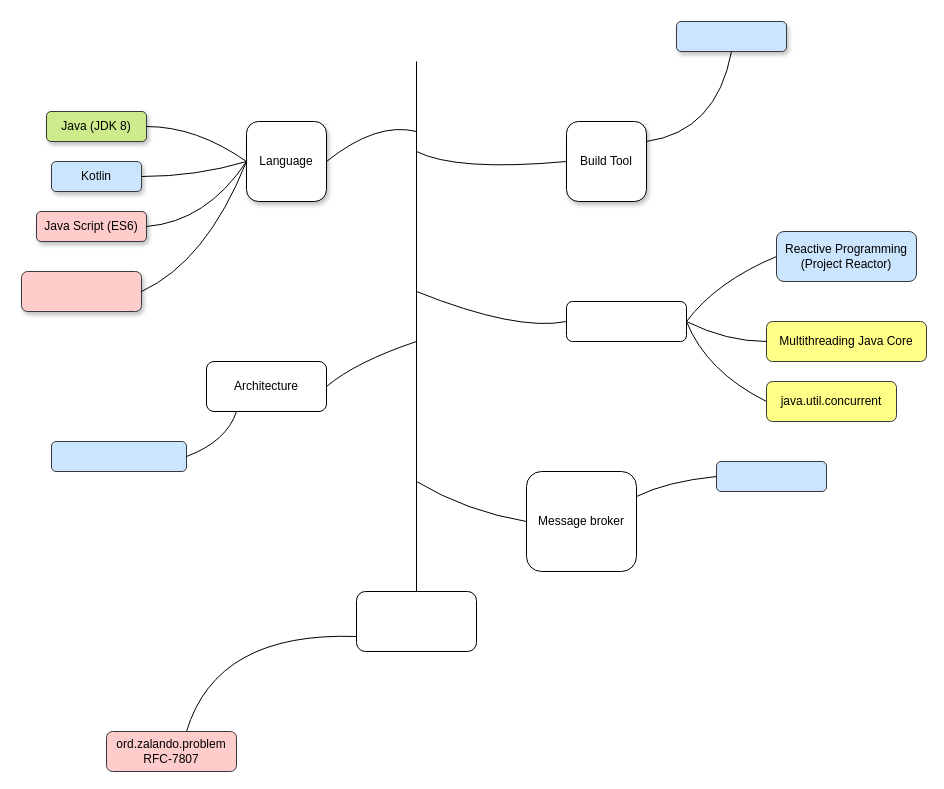
The diagram is 944 pixels wide and 789 high, and some of its shapes have lost their labels. The shapes that lost their labels are listed below. From the top down, each one's centre as x and y in pixels, then its label:
point (732, 37): Gradle
point (82, 292): Groovy
point (626, 321): Multithreading
point (118, 456): Design Patterns
point (771, 476): RabbitMQ
point (416, 621): Libraries
